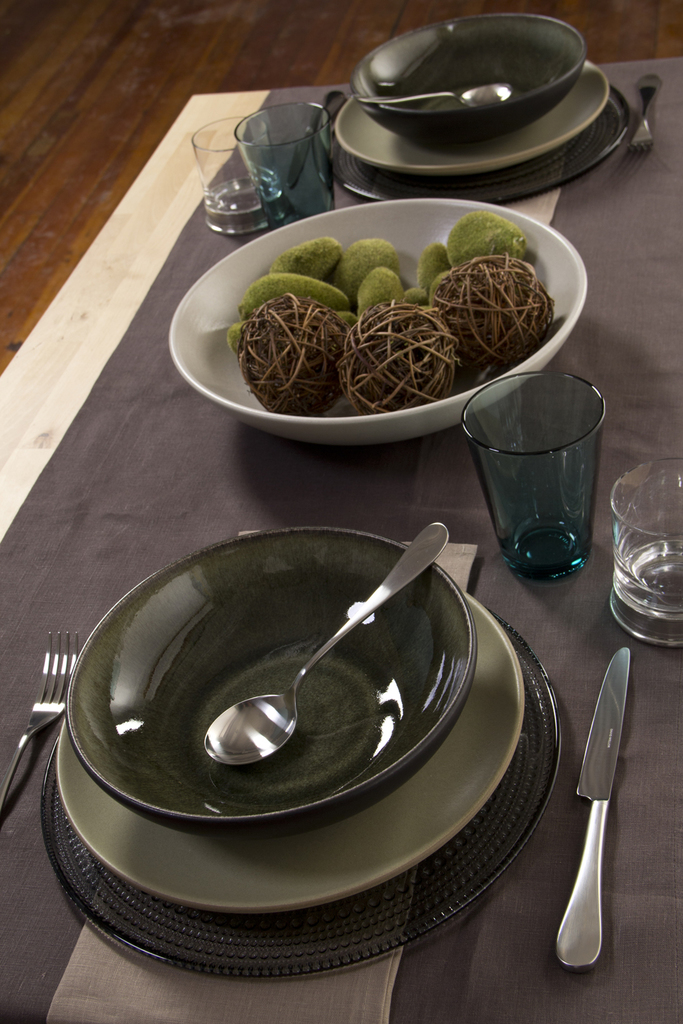kitchen knife: (560, 644, 628, 977)
